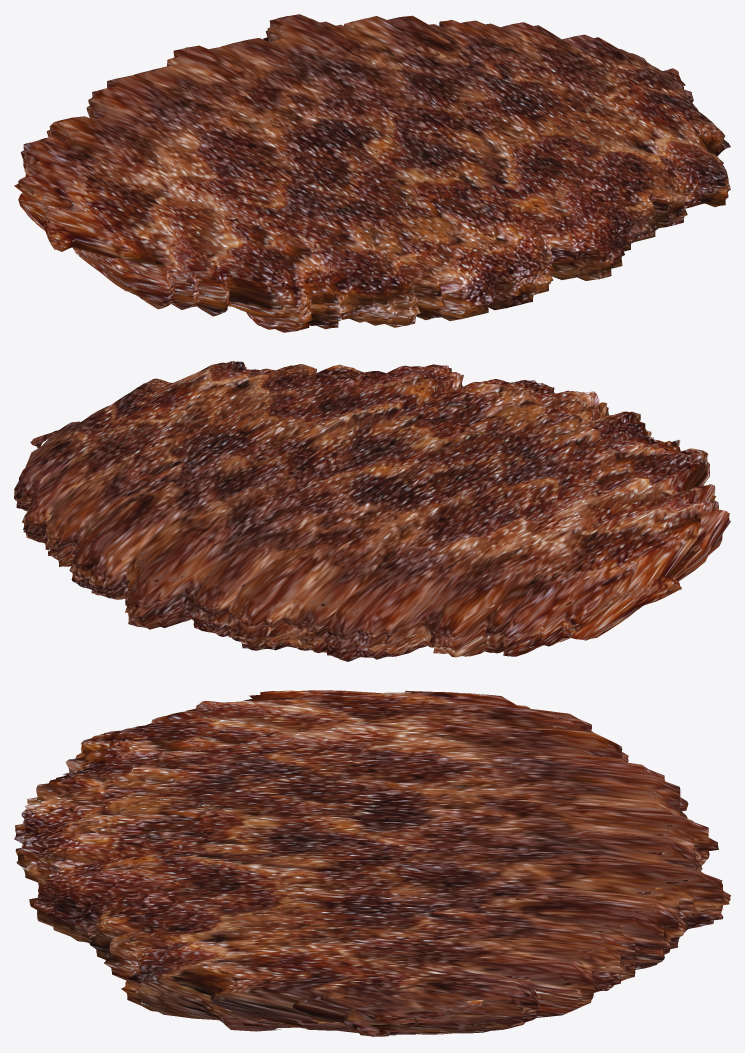
The model's file is patty.glb.
3 views of the same model, one above another, from view 1: azimuth 30°, elevation 25°; view 2: azimuth 150°, elevation 25°; view 3: azimuth 270°, elevation 25° (orthographic). The views are drawn at different scales.
Parts seen in each view (by area): view 1: patty; view 2: patty; view 3: patty.
Boxes of the visible parts, box(x1,y1,x2,y2) form: patty: box(14, 14, 730, 332); patty: box(14, 361, 730, 661); patty: box(14, 690, 730, 1036).
Size of the model in its own units: 0.99 by 0.105 by 0.89.
Materials: 1 (1 with a texture image).
